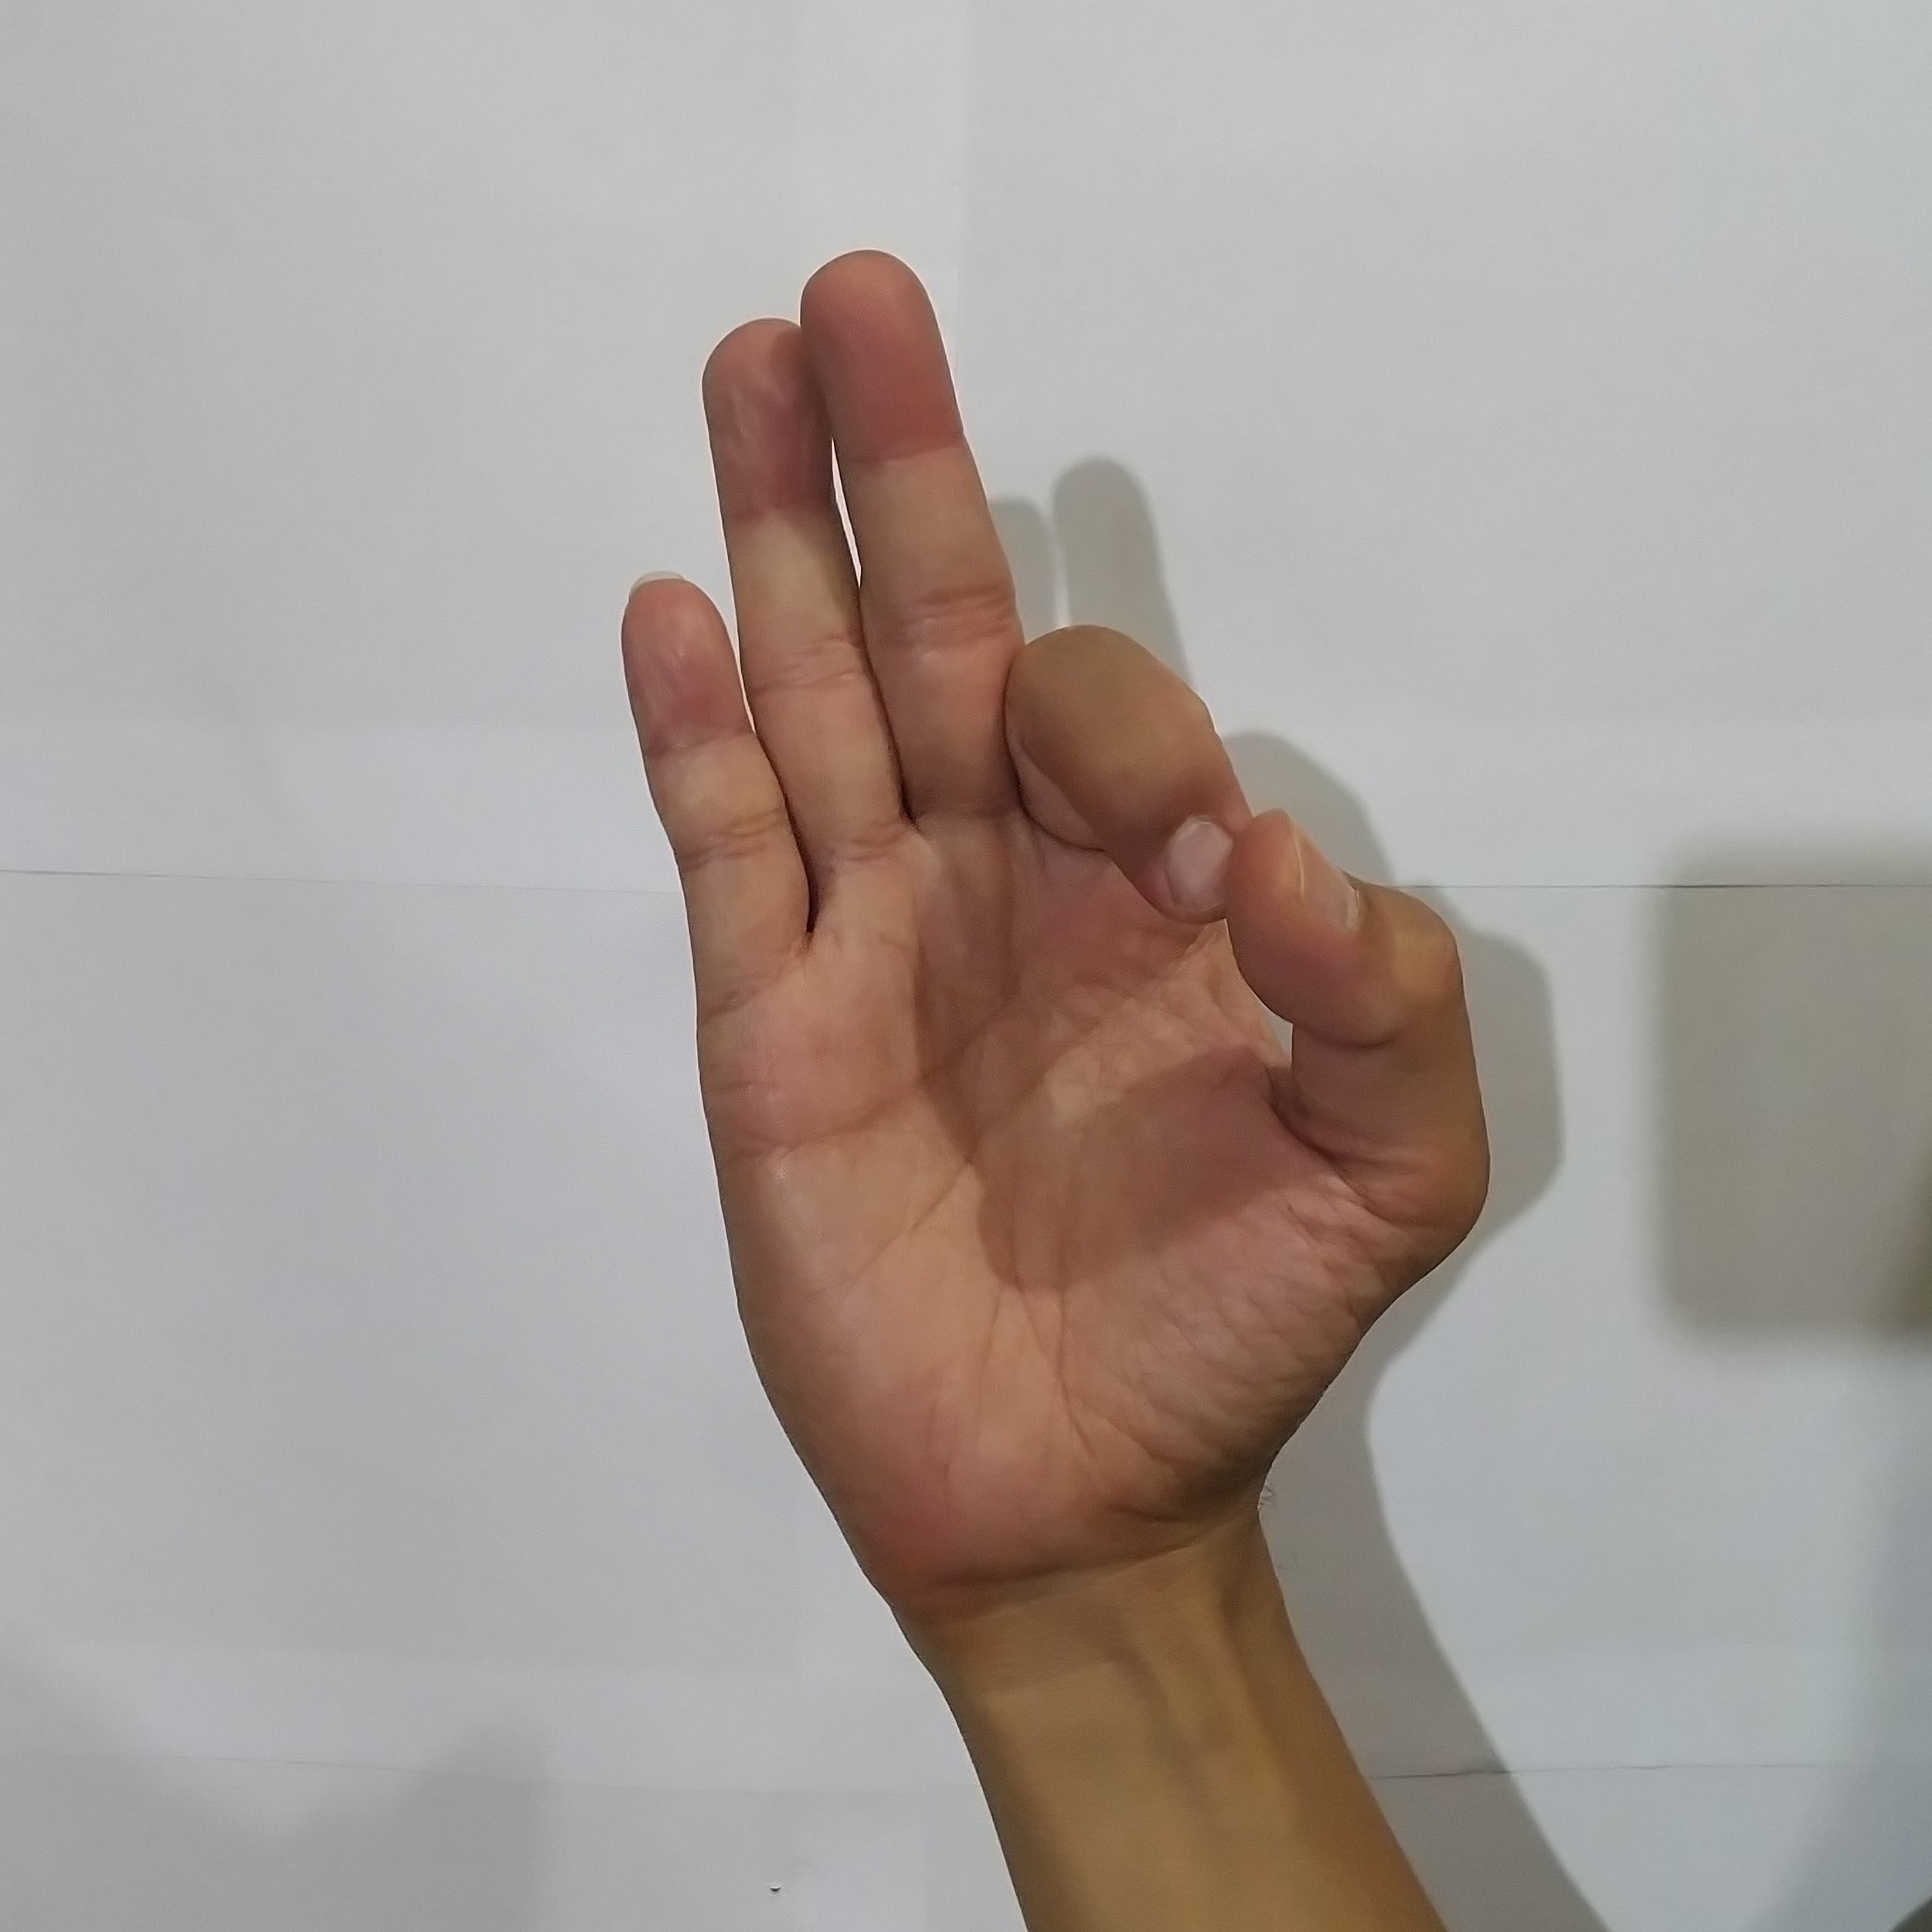F: (600, 225, 1509, 1522)
